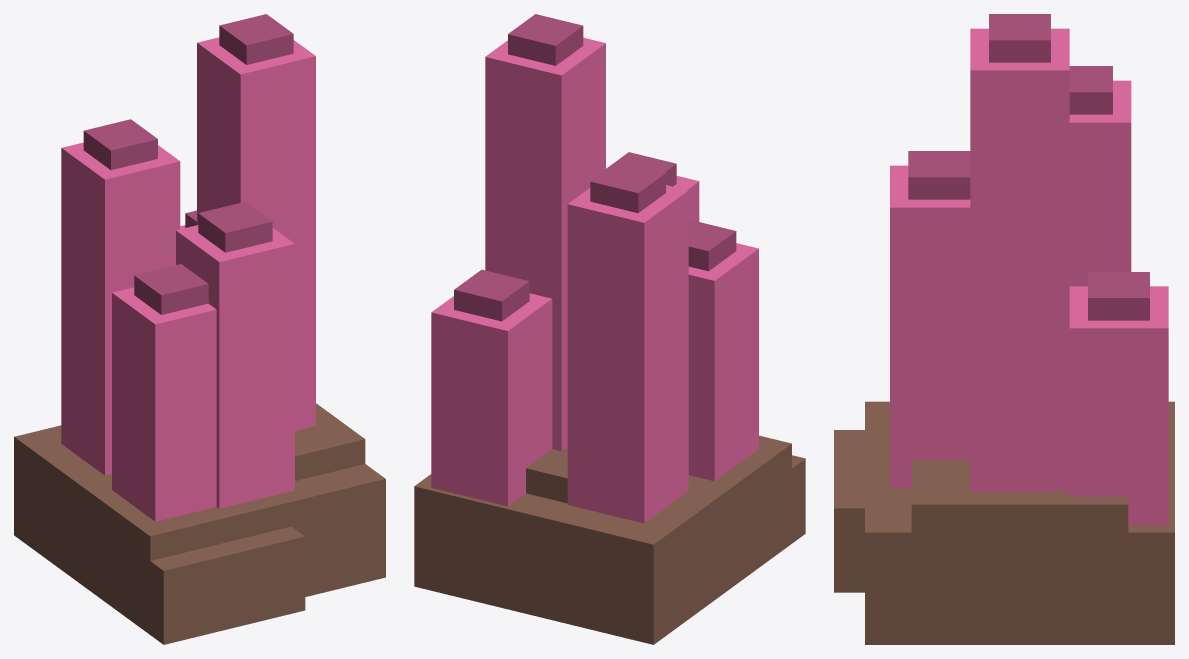
The model's file is TubeCoral_Pink.glb.
3 views of the same model, side by side, from view 1: azimuth 30°, elevation 25°; view 2: azimuth 150°, elevation 25°; view 3: azimuth 270°, elevation 25° (orthographic). The views are drawn at different scales.
Parts seen in each view (by area): view 1: TubeCoral_Pink; view 2: TubeCoral_Pink; view 3: TubeCoral_Pink.
Part boxes in pixels (x1,y1,x2,y2): TubeCoral_Pink: [14, 14, 385, 644]; TubeCoral_Pink: [414, 14, 805, 644]; TubeCoral_Pink: [834, 14, 1174, 644].
Size of the model in its own units: 5 by 10.4 by 5.5.
1 material, 1 textured.
